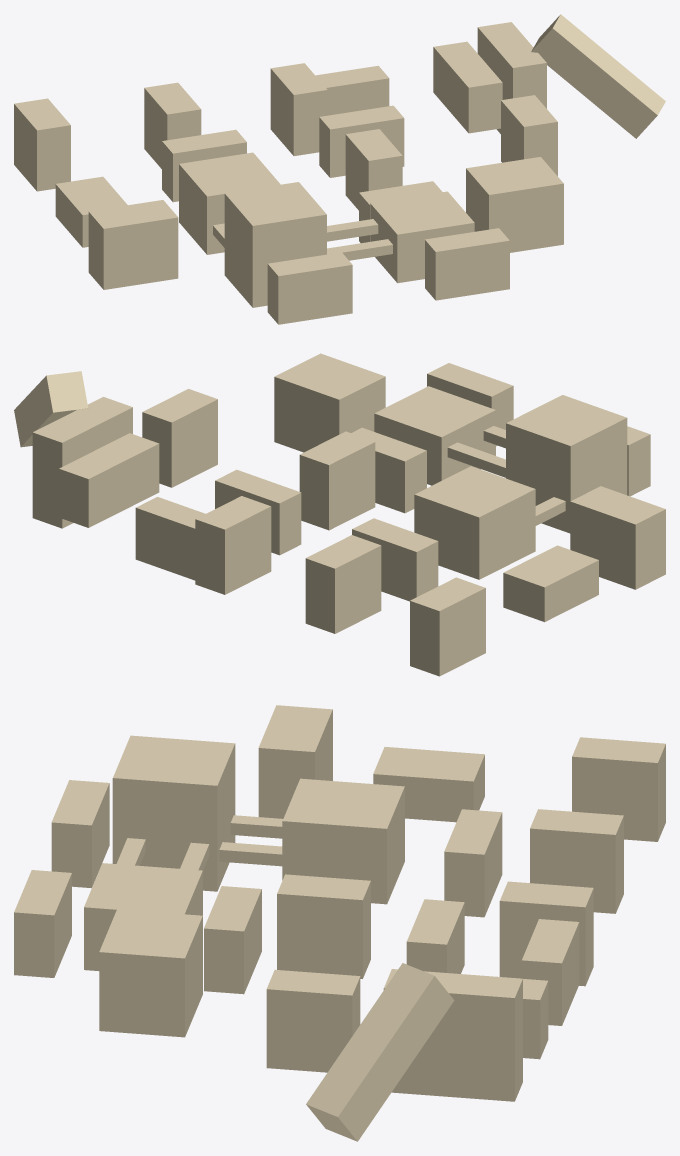
File: billding_1.obj
The picture shows the model from 3 angles, top to bottom: view 1: azimuth 30°, elevation 25°; view 2: azimuth 150°, elevation 25°; view 3: azimuth 270°, elevation 25°; orthographic projection. The views are drawn at different scales.
Parts seen in each view (by area): view 1: billding_1; view 2: billding_1; view 3: billding_1.
Part boxes in pixels (bbox=[...]): billding_1: bbox=[14, 14, 665, 324]; billding_1: bbox=[14, 353, 665, 676]; billding_1: bbox=[14, 705, 665, 1141].
Size of the model in its own units: 562 by 103 by 419.
Materials: 1 (1 with a texture image).
